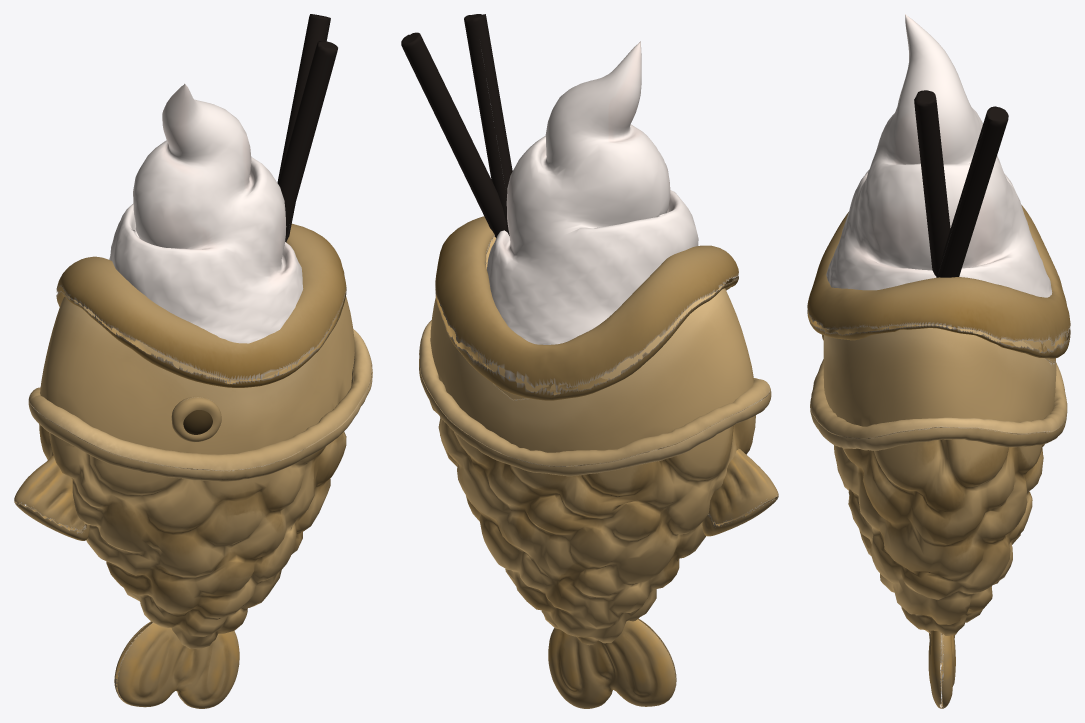
Rendered from Fish_Pang.fbx.
3 renders of one model, left to right at view 1: azimuth 30°, elevation 25°; view 2: azimuth 150°, elevation 25°; view 3: azimuth 270°, elevation 25°, orthographic. The views are drawn at different scales.
Parts seen in each view (by area): view 1: Fish_Pang; view 2: Fish_Pang; view 3: Fish_Pang.
Boxes of the visible parts, bbox=[...] form: Fish_Pang: bbox=[14, 14, 372, 708]; Fish_Pang: bbox=[401, 14, 778, 708]; Fish_Pang: bbox=[807, 14, 1070, 708].
Bounding box in the file's own units: 1.79 × 3.26 × 1.16.
6 materials, 6 textured.
